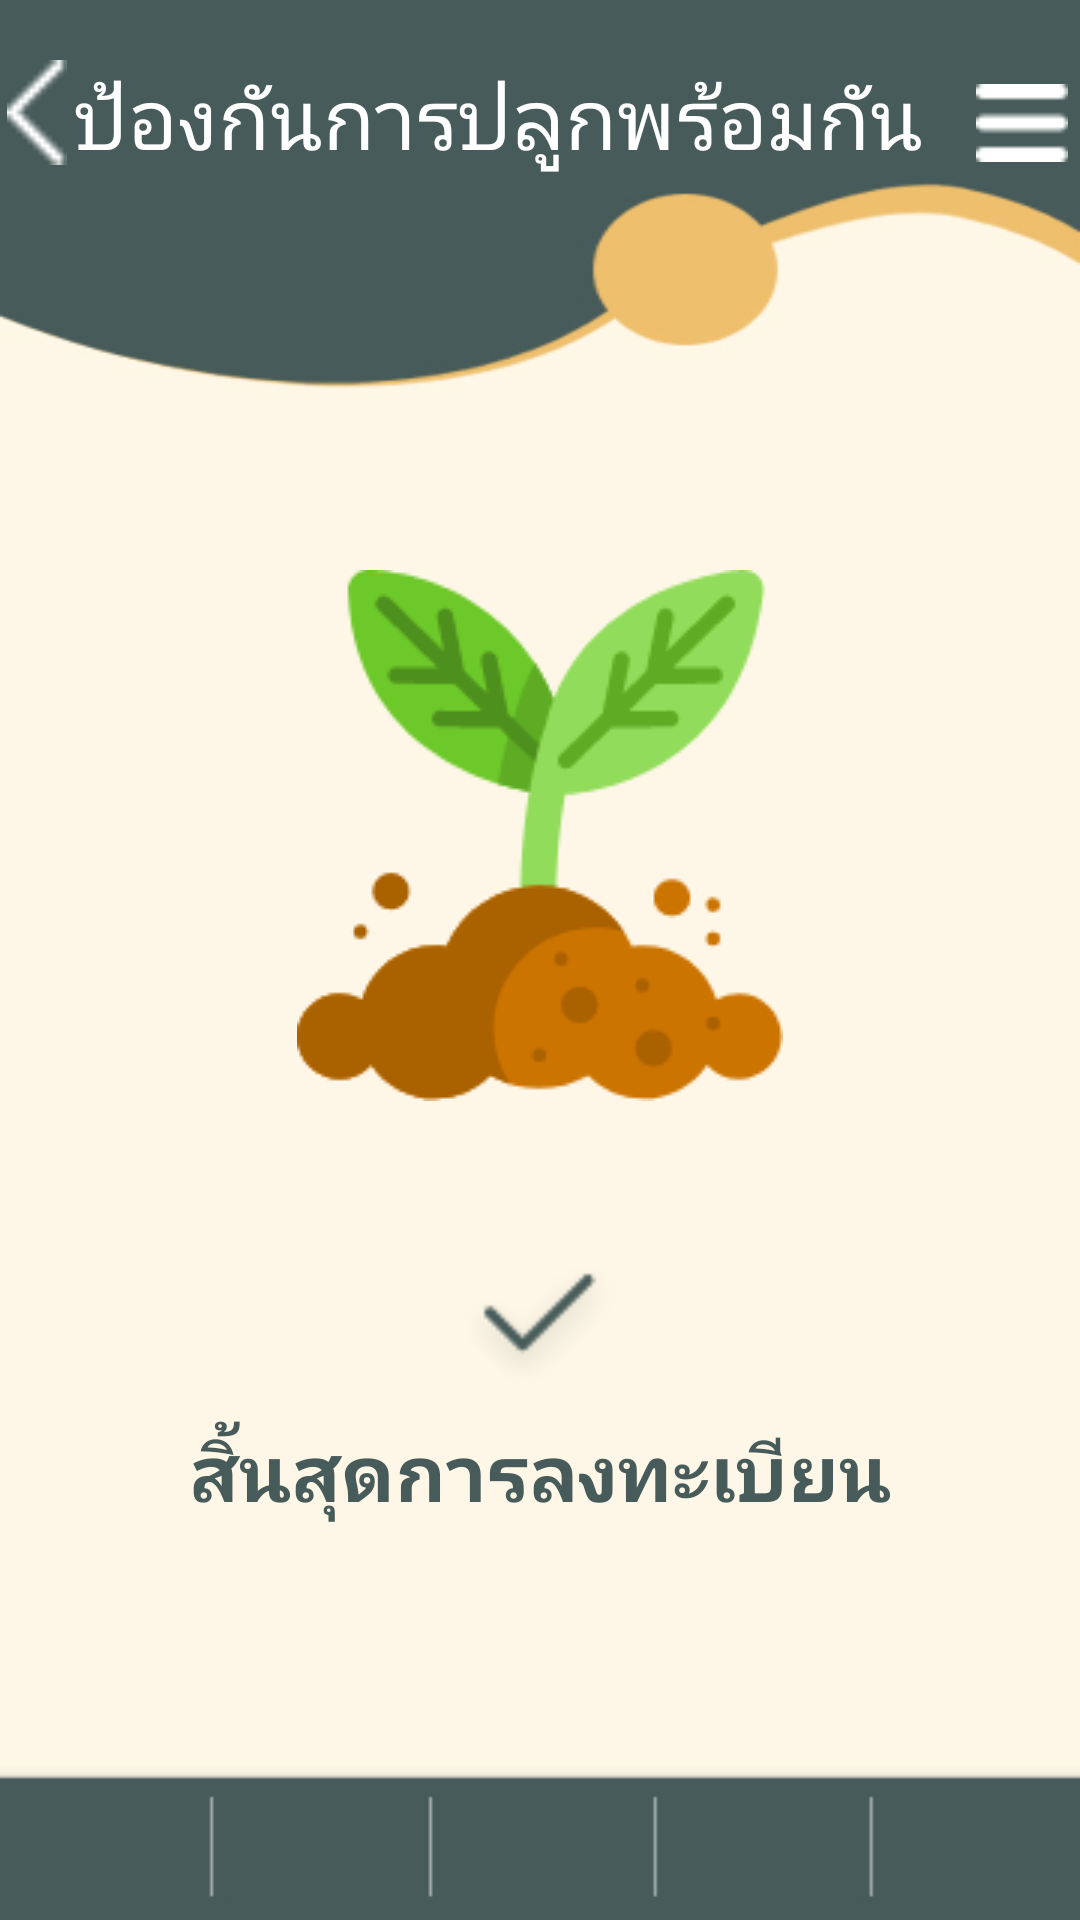

Where icons sit on this 1080 × 1920 app screen, as (x1, y1, x2, y2):
check: (483, 1273, 596, 1354)
menusymbol: (976, 84, 1068, 162)
